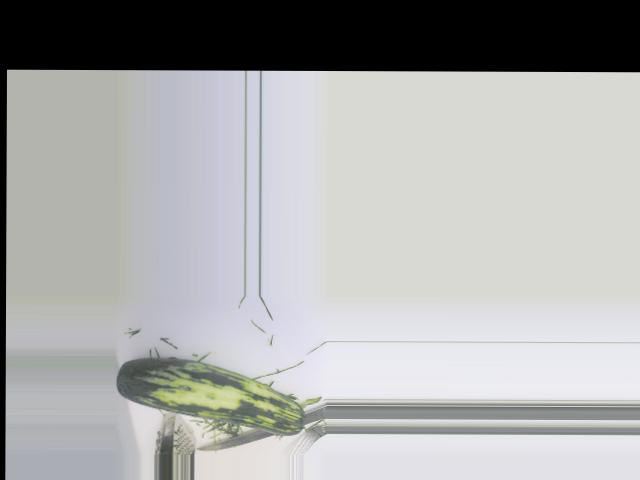cucumber: (116, 356, 306, 436)
